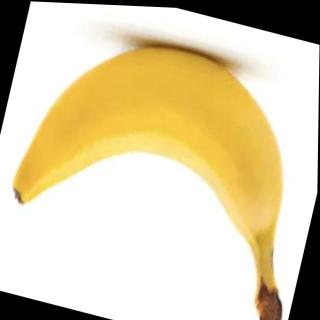banana: (7, 11, 313, 273)
